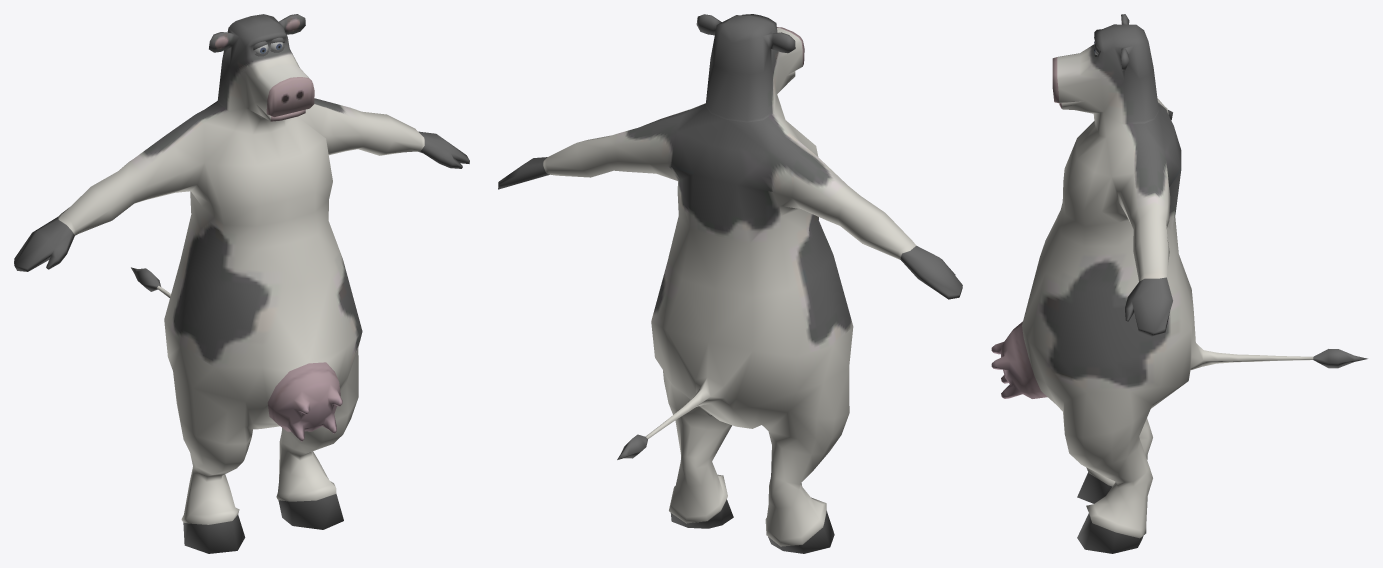
File: cow.glb
3 views of the same model, side by side, from view 1: azimuth 30°, elevation 25°; view 2: azimuth 150°, elevation 25°; view 3: azimuth 270°, elevation 25° (orthographic). The views are drawn at different scales.
Parts seen in each view (by area): view 1: Object_3; view 2: Object_3; view 3: Object_3.
Boxes of the visible parts, left/top/right/bottom form: Object_3: left=14, top=14, right=469, bottom=553; Object_3: left=498, top=14, right=962, bottom=553; Object_3: left=991, top=14, right=1367, bottom=553.
Bounding box in the file's own units: 1.98 × 2.1 × 1.47.
2 materials, 2 textured.
